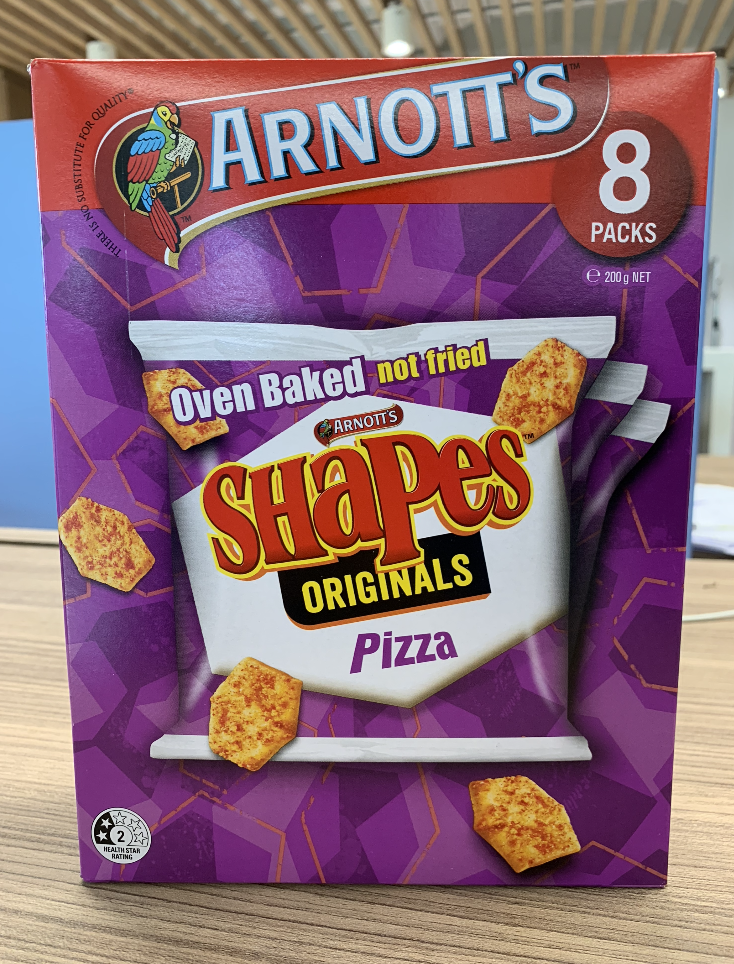crackers_200g-299g: (82, 91, 660, 873)
